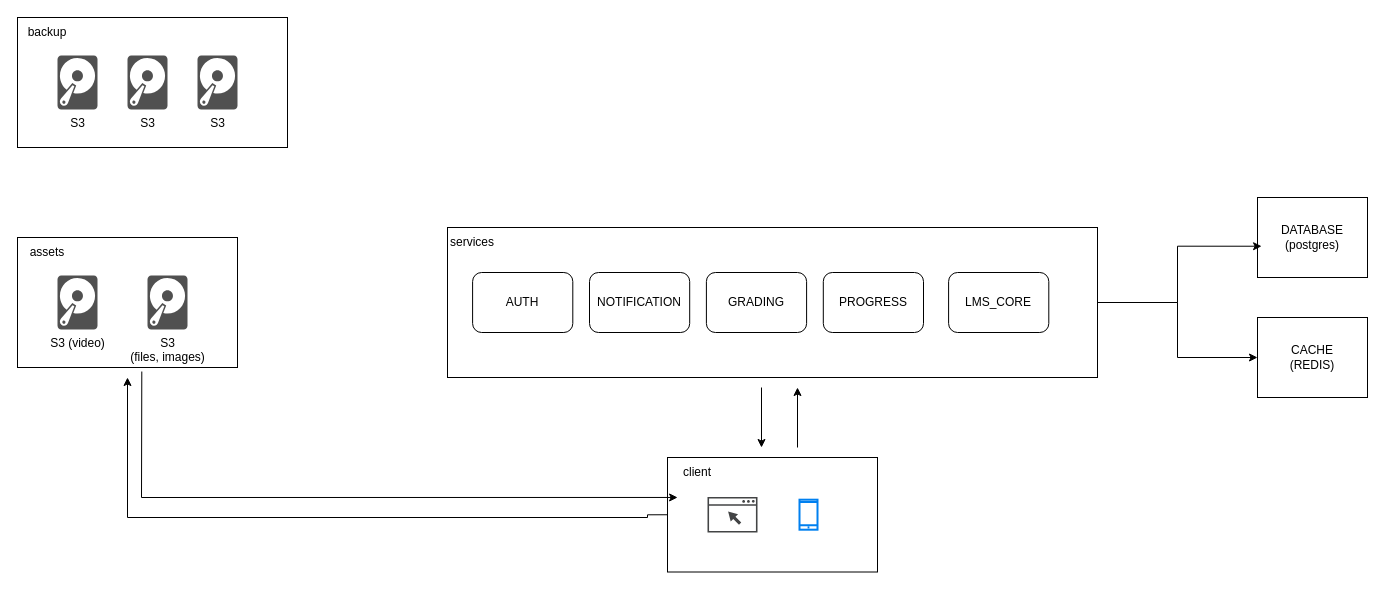
The diagram is 1385 pixels wide and 590 high, and some of its shapes have lost their labels. Each missing label, with the centre of its shape:
"BROWSER" goes at point (732, 514).
"ios/android" goes at point (808, 514).
